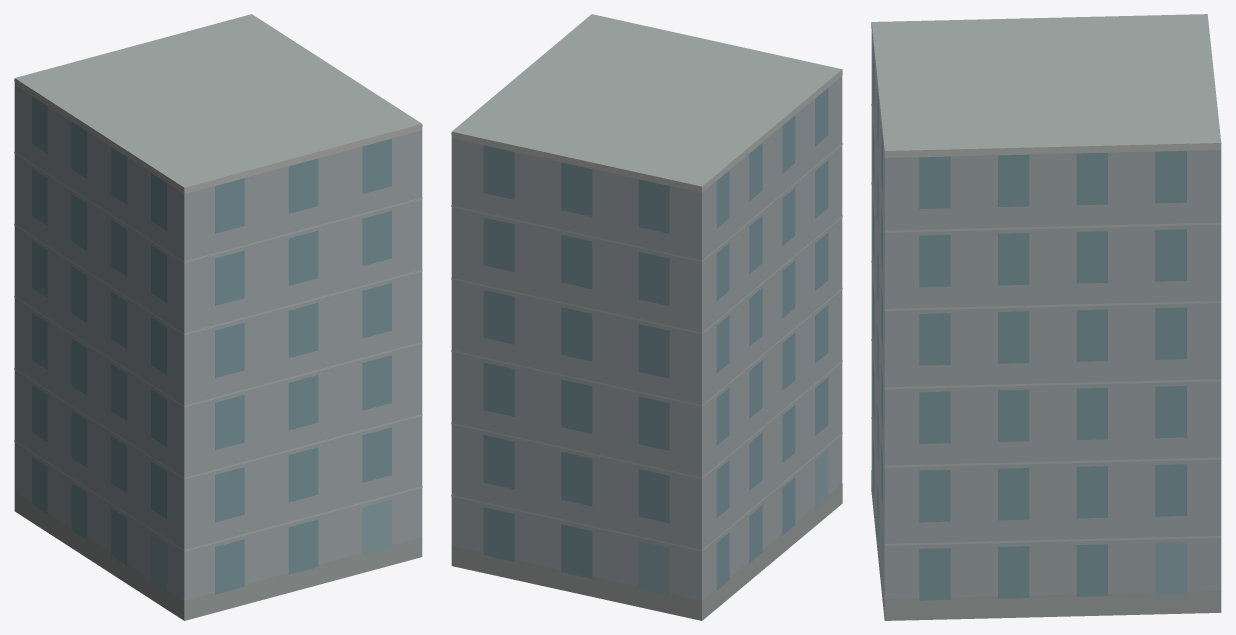
Rendered from survey-upis-32701662.glb.
The picture shows the model from 3 angles, left to right: view 1: azimuth 30°, elevation 25°; view 2: azimuth 150°, elevation 25°; view 3: azimuth 270°, elevation 25°; orthographic projection. The views are drawn at different scales.
Parts seen in each view (by area): view 1: survey-upis-32701662.tmp; view 2: survey-upis-32701662.tmp; view 3: survey-upis-32701662.tmp.
Part boxes in pixels (box(x1,y1,x2,y2)): survey-upis-32701662.tmp: box(14, 14, 422, 620); survey-upis-32701662.tmp: box(451, 14, 842, 620); survey-upis-32701662.tmp: box(871, 14, 1221, 620).
Size of the model in its own units: 10.47 by 16.7 by 11.29.
